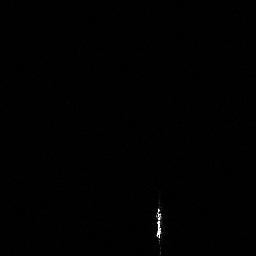ship: (149, 203, 168, 242)
